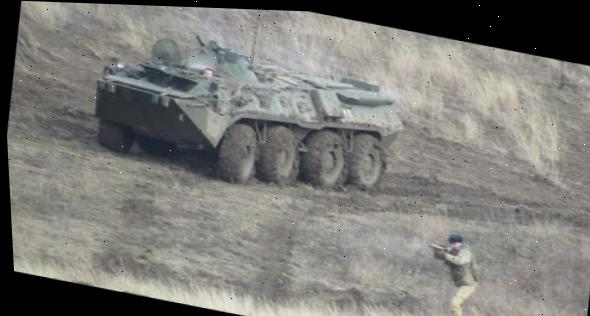person: (414, 227, 490, 316)
tank: (81, 15, 418, 217)
